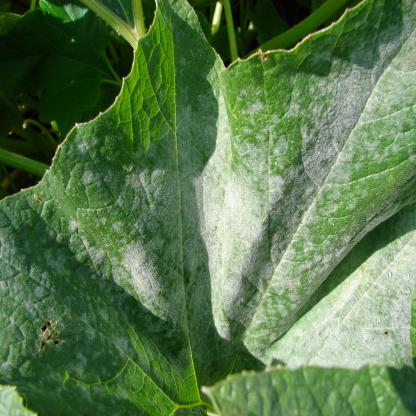squash powdery mildew leaf: (3, 11, 416, 407)
